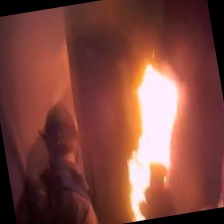fire: (116, 59, 186, 164)
